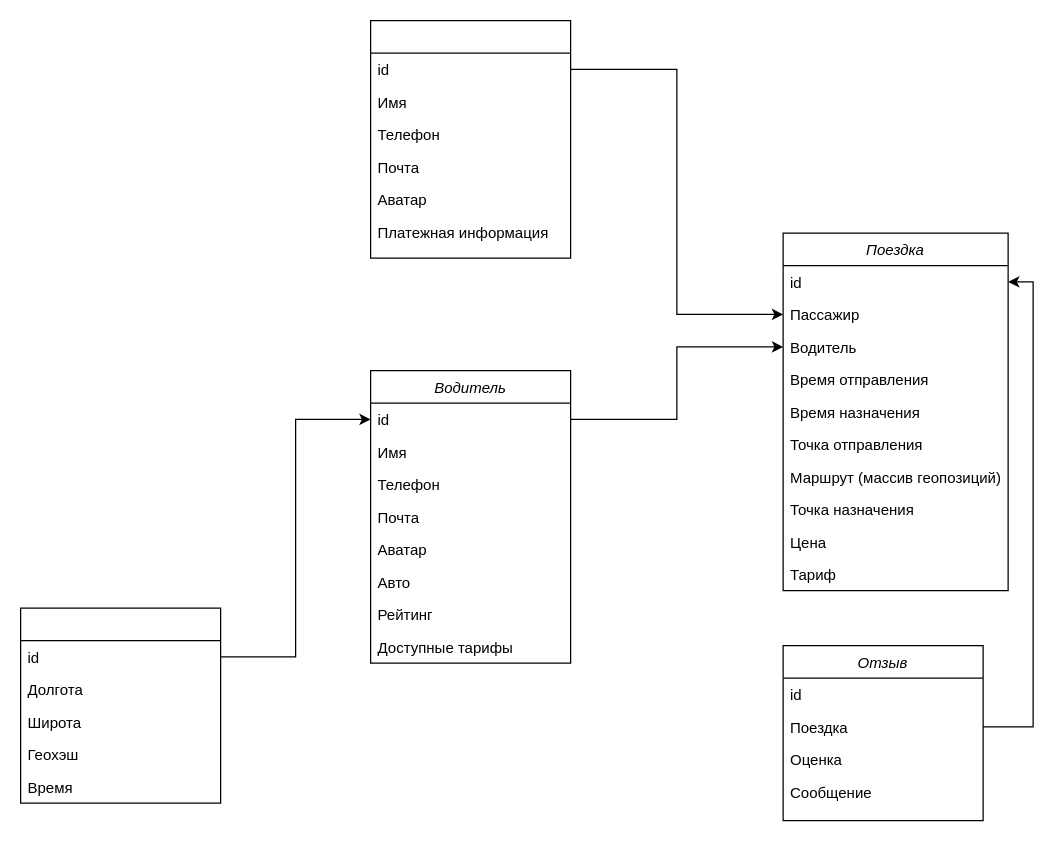
The diagram is 1054 pixels wide and 841 high, and some of its shapes have lost their labels. Each missing label, with the box of its shape:
Геопозиция водителя: (19, 607, 221, 803)
Пользователь: (369, 19, 571, 258)
